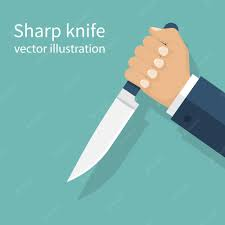knife: (61, 80, 135, 185)
